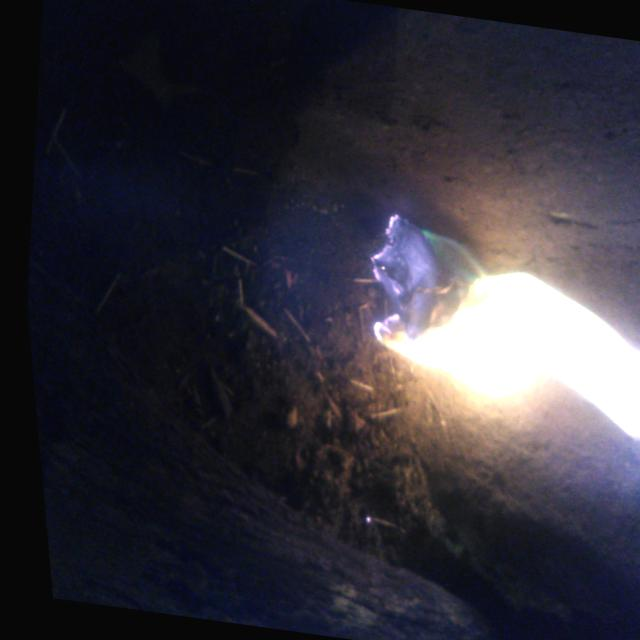helmet: (340, 207, 640, 450)
